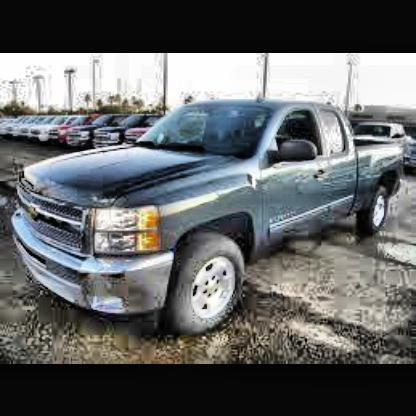Chevrolet Silverado 1500 Extended Cab 2012: (14, 98, 407, 338)
